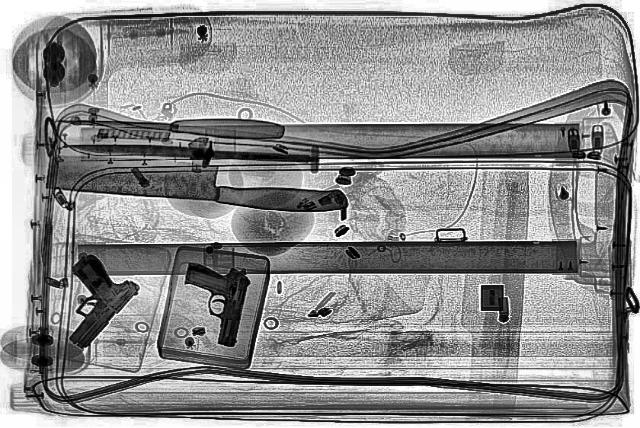Gun: (17, 252, 154, 348), (170, 260, 252, 346)
Knife: (41, 150, 353, 214), (58, 109, 284, 139), (66, 138, 310, 164)
